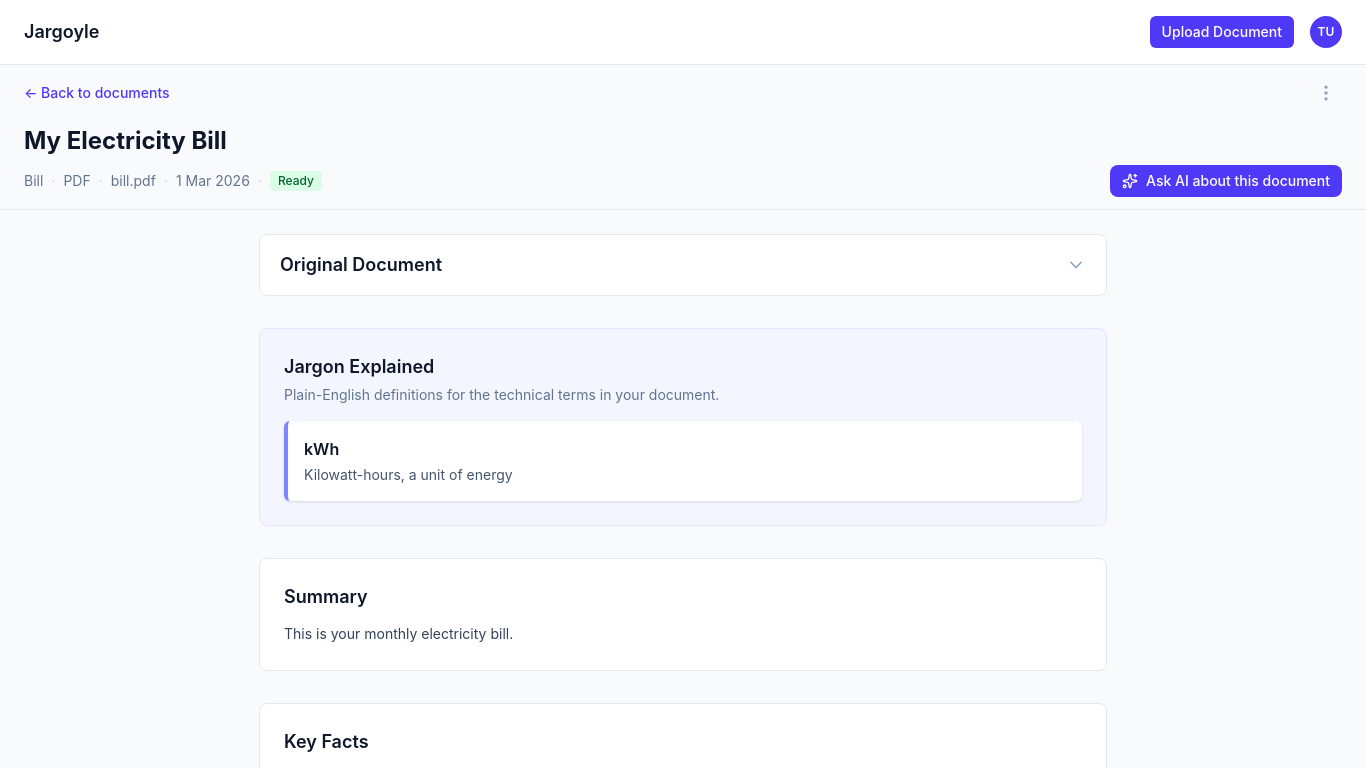
it: DocumentDetailsPage › toggles the chat drawer closed when "Hide chat" is clicked
The image size is (1366, 768).
Expected: the heading "My Electricity Bill" is shown, 24,126 -> 227,155
// Open the chat
Click the button "Ask AI about this document". click: click(1226, 181)
box: 1110,165 -> 1342,197
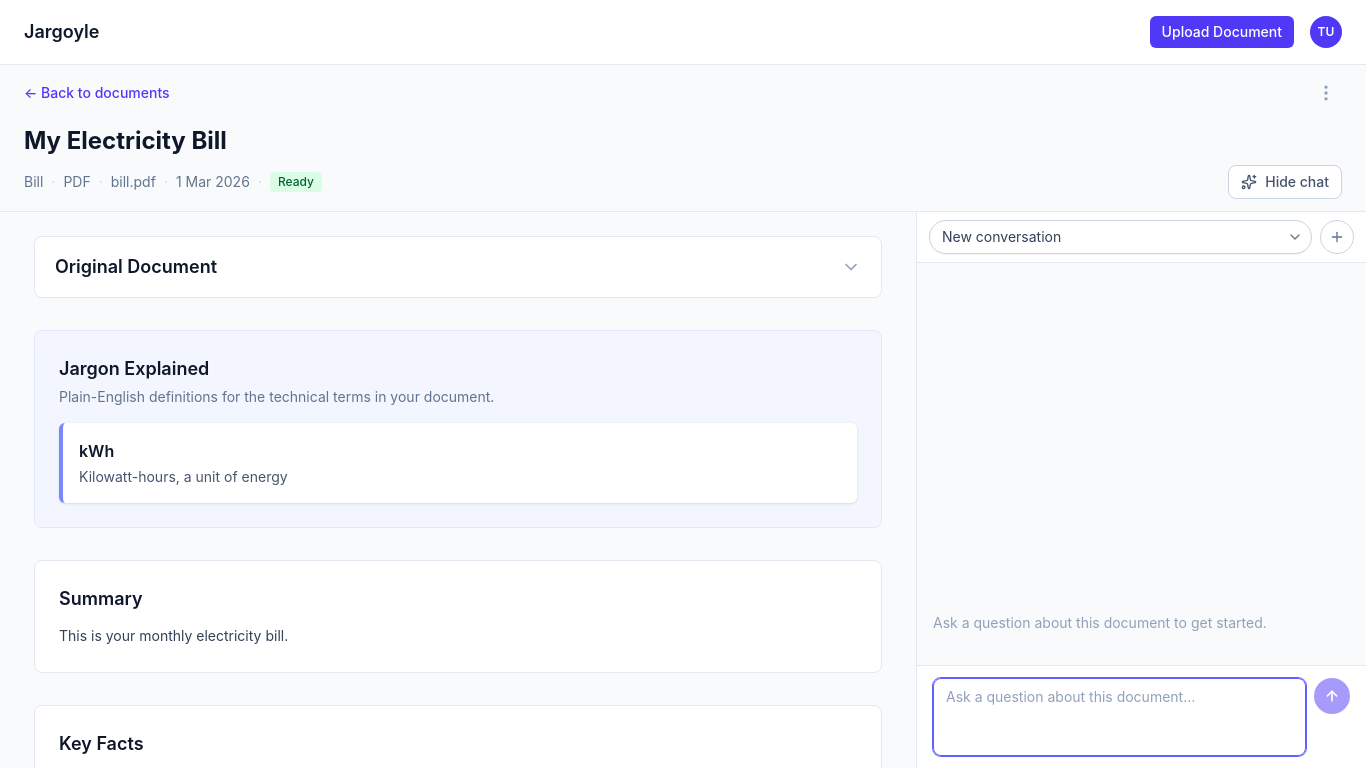
Result: the button "Hide chat" is shown
// Close via the same toggle button
Click the button "Hide chat". click: click(1285, 182)
box: 1228,165 -> 1342,199
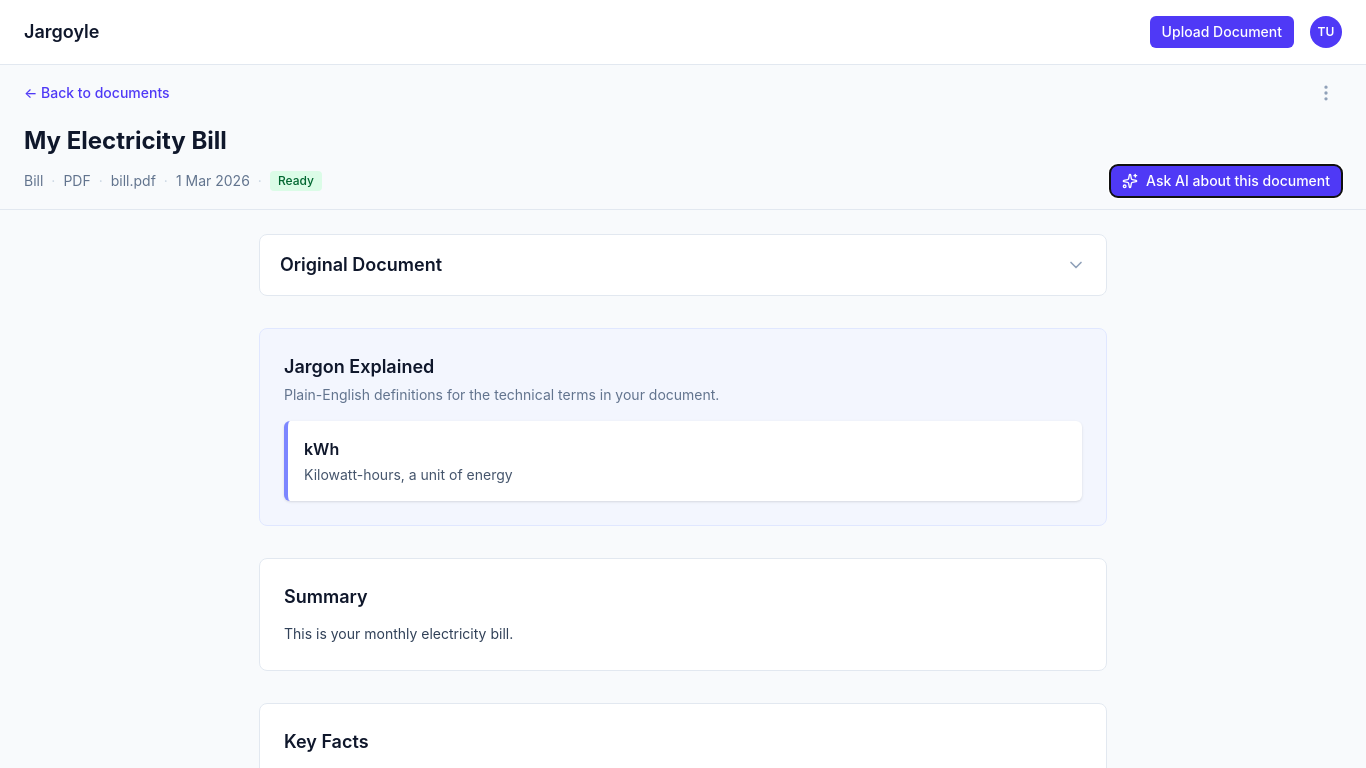
Result: the button "Ask AI about this document" is shown at 1110,165 -> 1342,197
